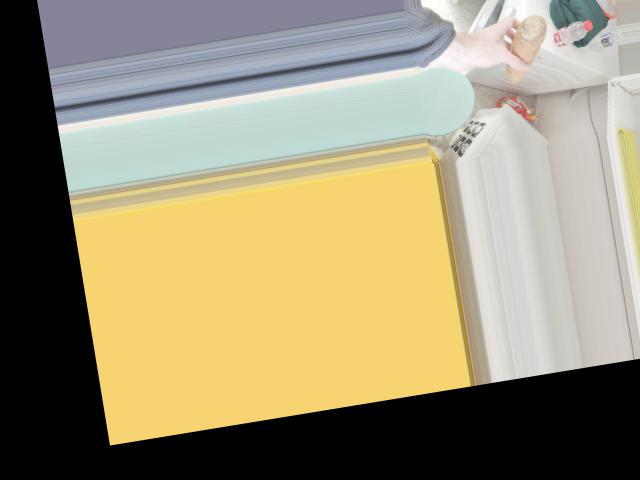sweet_potato: (500, 13, 556, 85)
